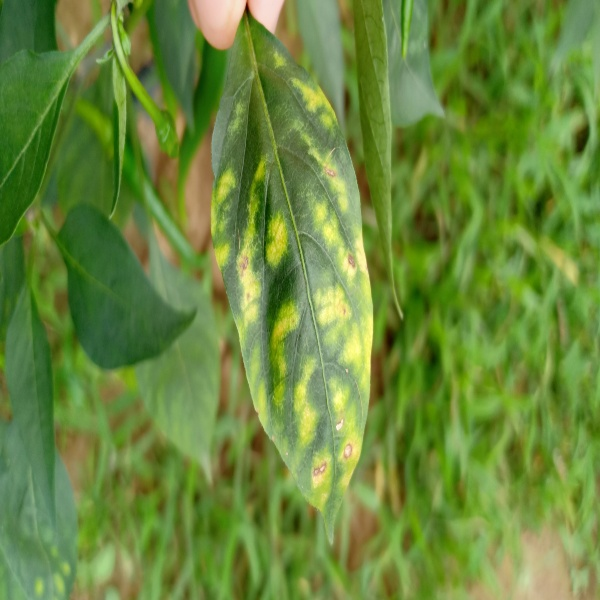Improper medication: (207, 71, 376, 513)
